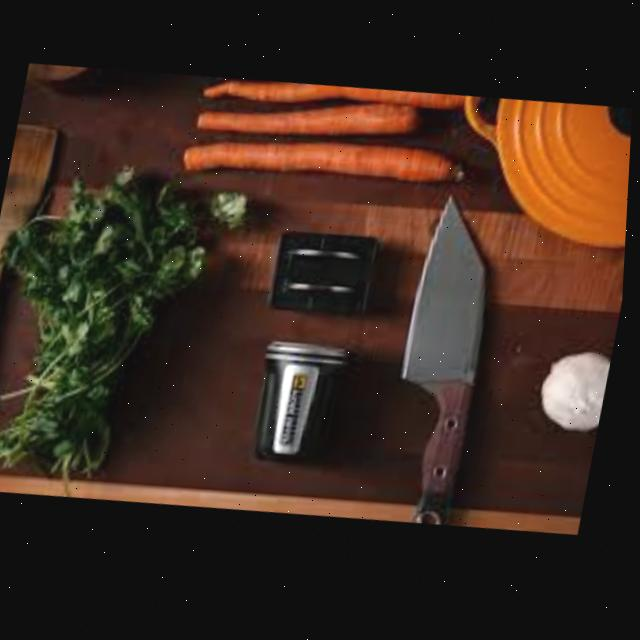Knife: (379, 192, 516, 535)
